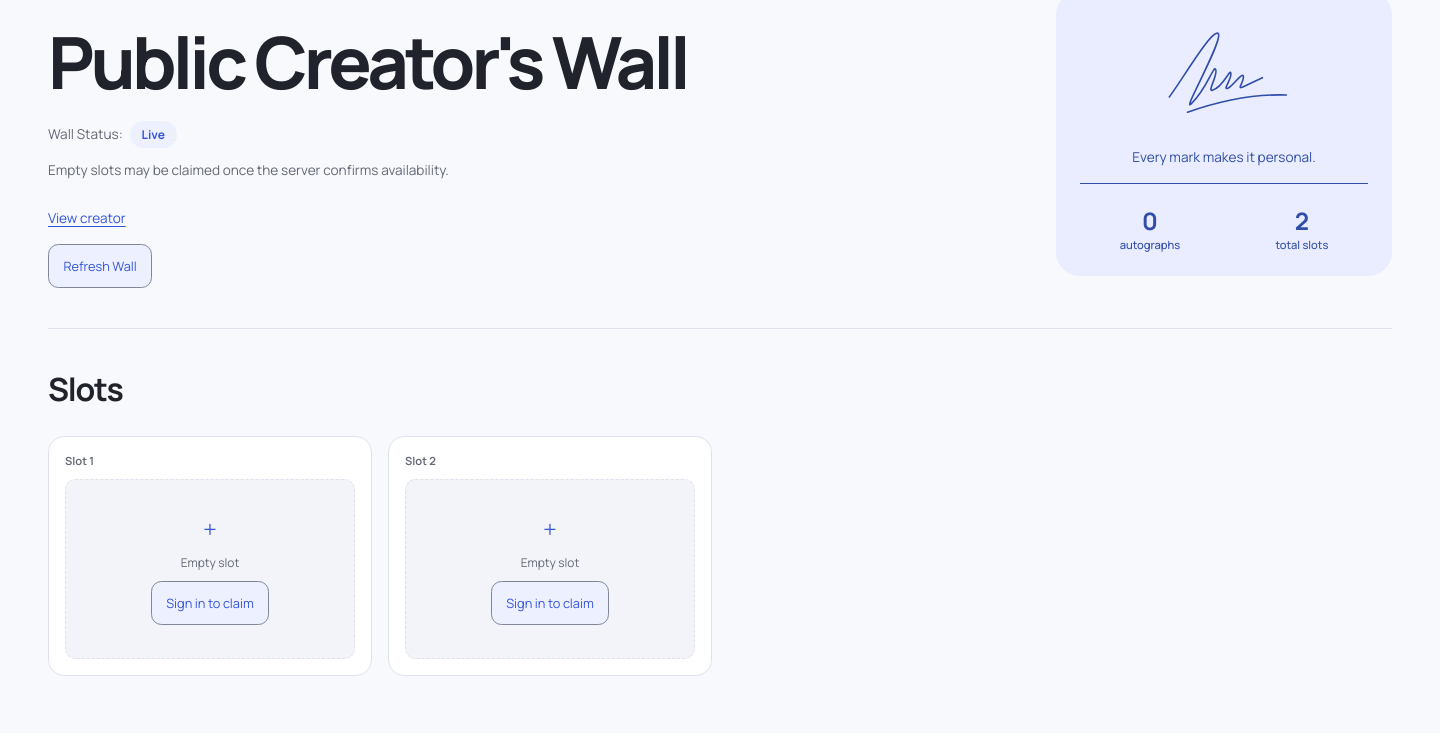
Test: public Wall and Free Claim UX › refreshes history with Refresh Wall inside the single page landmark
The image size is (1440, 733).
Click the button "Refresh Wall" at (100, 266), box [48,244,152,288]
(page scrolled)
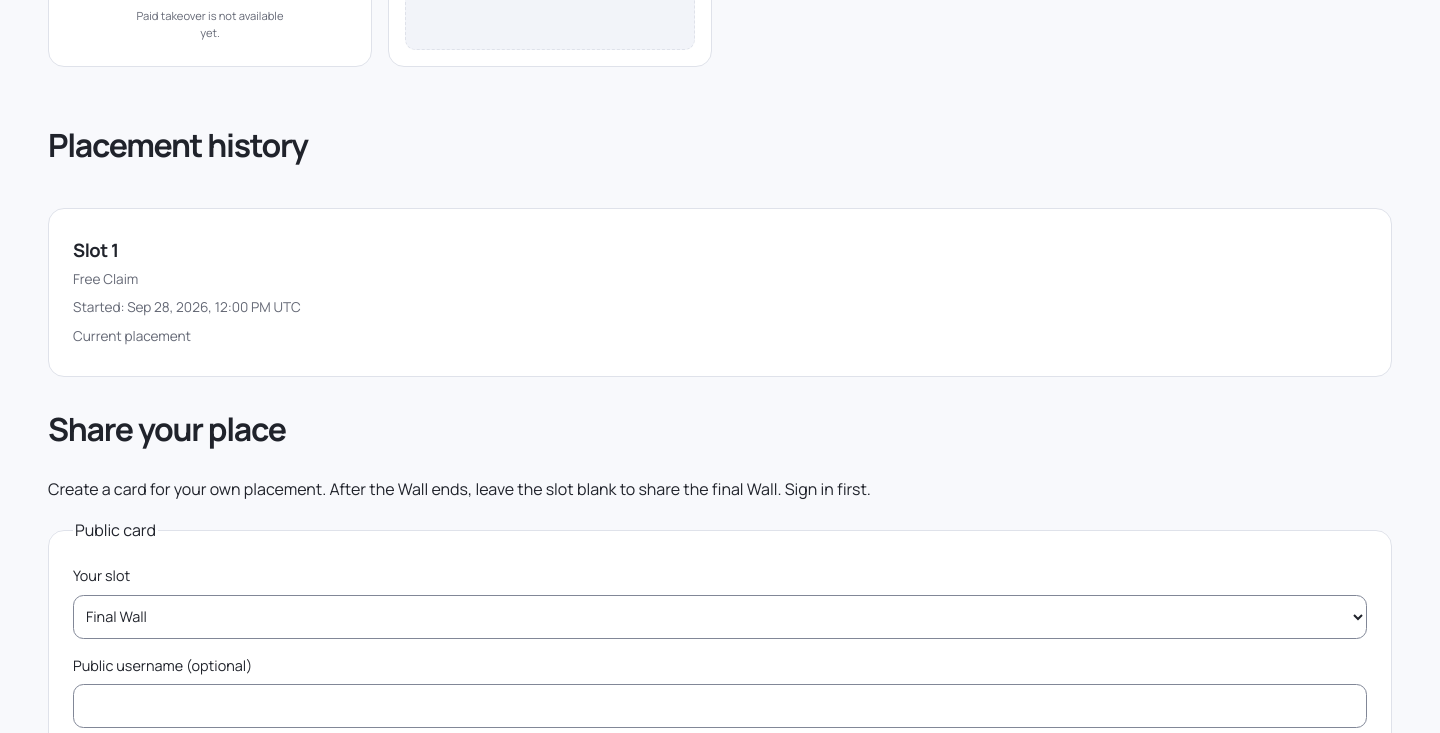
expect the text "Current placement" is shown: met, box [73,327,191,345]
